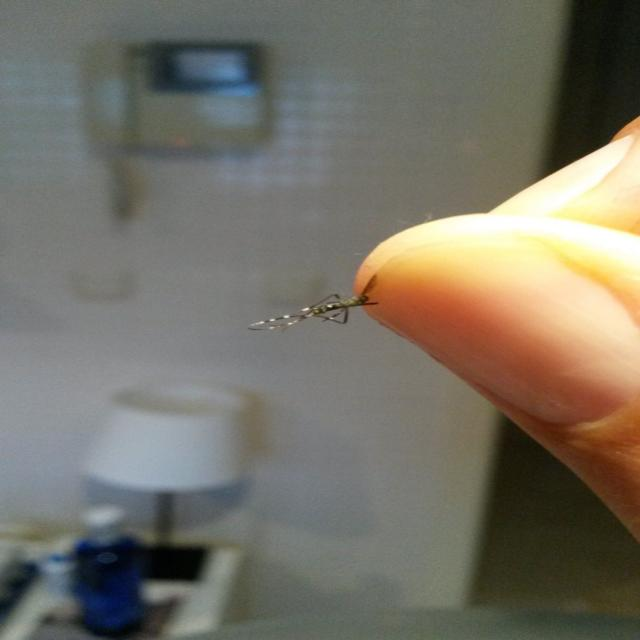albopictus: (245, 266, 397, 333)
